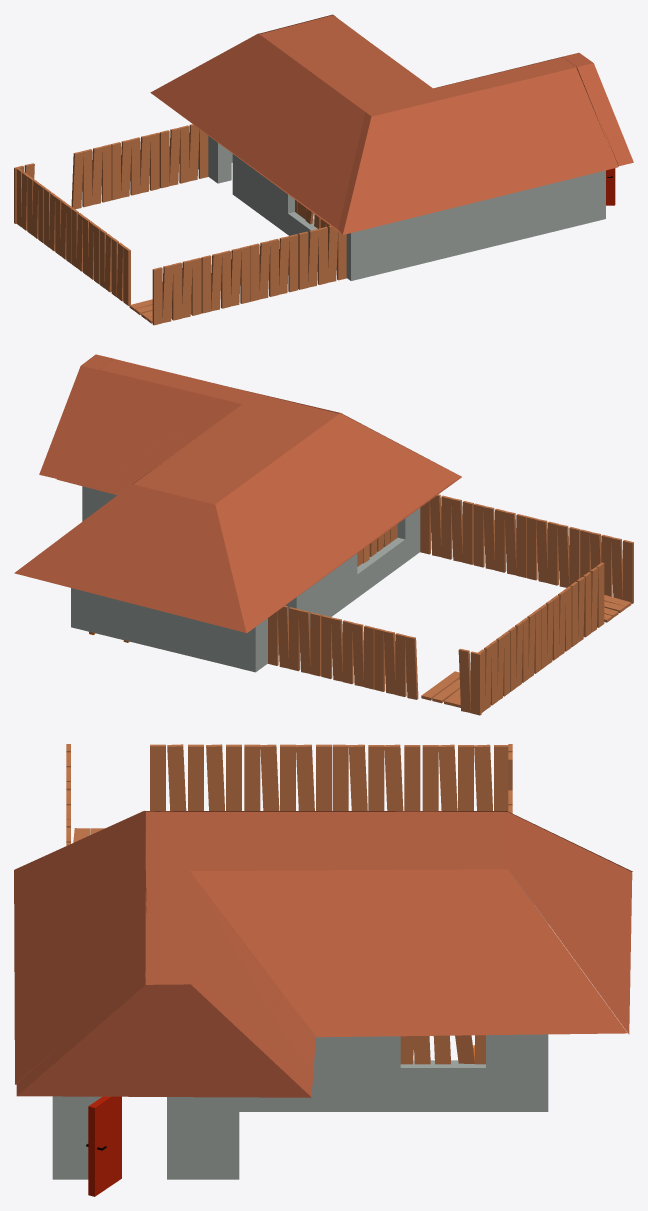
Rendered from house_a.glb.
The picture shows the model from 3 angles, top to bottom: view 1: azimuth 30°, elevation 25°; view 2: azimuth 150°, elevation 25°; view 3: azimuth 270°, elevation 25°; orthographic projection. The views are drawn at different scales.
Parts seen in each view (by area): view 1: Plane.004, Plane.002, Cube, Plane.001, Cube.075, Cube.016, Cube.036, Cube.037, Cube.047, Cube.029, Cube.038, Cube.032 (+28 smaller); view 2: Plane.002, Plane.005, Cube, Plane.006, Plane.001, Cube.075, Cube.016, Cube.026, Cube.047, Cube.029, Cube.042, Cube.018 (+29 smaller); view 3: Plane.003, Cube, Plane.001, Plane.004, Cube.075, Plane.005, Plane.006, Door, Cube.061, Cube.071, Cube.062, Cube.067 (+16 smaller).
Boxes of the visible parts, left/top/right/bottom form: Plane.004: left=343, top=67, right=617, bottom=234; Plane.002: left=150, top=33, right=371, bottom=234; Cube: left=198, top=136, right=605, bottom=280; Plane.001: left=260, top=15, right=576, bottom=116; Cube.075: left=563, top=52, right=633, bottom=166; Cube.016: left=159, top=130, right=169, bottom=188; Cube.036: left=201, top=255, right=211, bottom=313; Cube.037: left=152, top=267, right=162, bottom=325; Cube.047: left=298, top=231, right=308, bottom=289; Cube.029: left=71, top=151, right=83, bottom=209; Cube.038: left=172, top=262, right=182, bottom=320; Cube.032: left=240, top=246, right=250, bottom=303; Plane.002: left=215, top=413, right=461, bottom=633; Plane.005: left=14, top=484, right=246, bottom=632; Cube: left=71, top=486, right=420, bottom=672; Plane.006: left=56, top=369, right=241, bottom=495; Plane.001: left=100, top=359, right=338, bottom=504; Cube.075: left=39, top=354, right=114, bottom=478; Cube.016: left=310, top=612, right=321, bottom=676; Cube.026: left=470, top=651, right=481, bottom=715; Cube.047: left=462, top=501, right=473, bottom=564; Cube.029: left=405, top=635, right=418, bottom=699; Cube.042: left=473, top=503, right=484, bottom=567; Cube.018: left=342, top=620, right=353, bottom=684; Plane.003: left=190, top=869, right=627, bottom=1037; Cube: left=52, top=870, right=548, bottom=1179; Plane.001: left=145, top=811, right=508, bottom=971; Plane.004: left=14, top=810, right=146, bottom=1083; Cube.075: left=16, top=971, right=311, bottom=1097; Plane.005: left=507, top=811, right=632, bottom=1034; Plane.006: left=189, top=870, right=315, bottom=1085; Door: left=88, top=1096, right=121, bottom=1196; Cube.061: left=244, top=744, right=260, bottom=810; Cube.071: left=332, top=744, right=348, bottom=810; Cube.062: left=422, top=745, right=438, bottom=810; Cube.067: left=404, top=745, right=420, bottom=810.
Size of the model in its own units: 2.22 by 0.6205 by 1.59.
